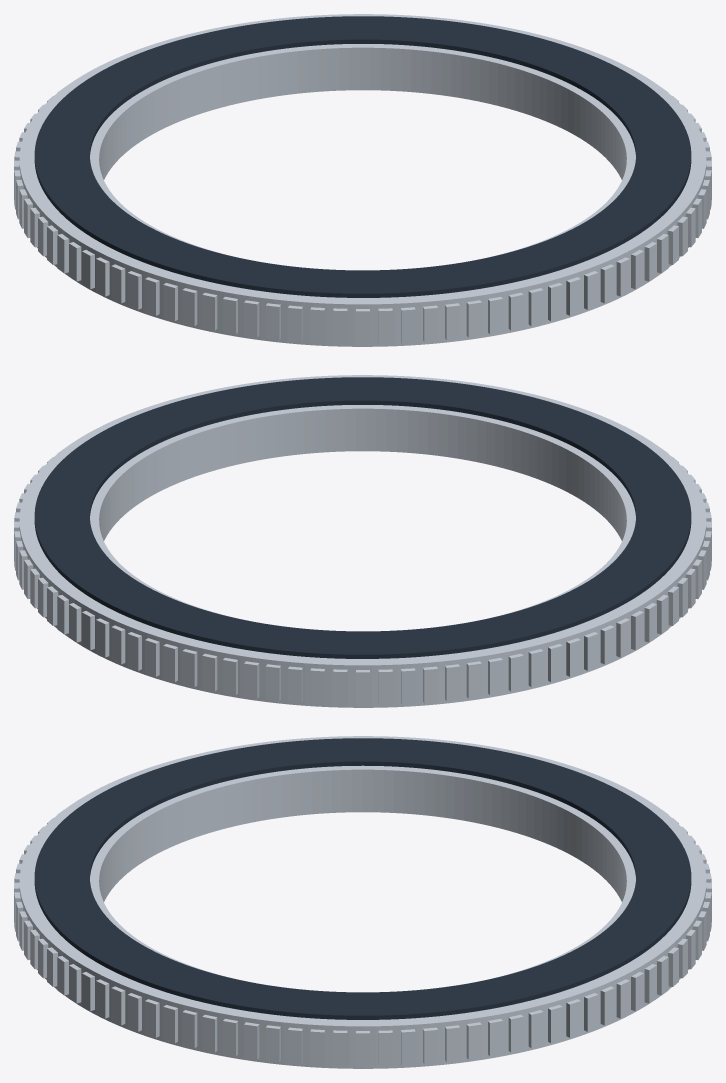
File: bezel_knurled_42mm_v1.glb
3 renders of one model, top to bottom at view 1: azimuth 30°, elevation 25°; view 2: azimuth 150°, elevation 25°; view 3: azimuth 270°, elevation 25°, orthographic.
Visible parts, largest first — view 1: DD_BEZEL_INSERT, DD_BEZEL_CARRIER_KNURLED, DD_BEZEL_KNURL_071, DD_BEZEL_KNURL_056, DD_BEZEL_KNURL_057, DD_BEZEL_KNURL_059, DD_BEZEL_KNURL_069, DD_BEZEL_KNURL_072, DD_BEZEL_KNURL_063, DD_BEZEL_KNURL_065, DD_BEZEL_KNURL_054, DD_BEZEL_KNURL_074 (+14 smaller); view 2: DD_BEZEL_INSERT, DD_BEZEL_CARRIER_KNURLED, DD_BEZEL_KNURL_025, DD_BEZEL_KNURL_024, DD_BEZEL_KNURL_027, DD_BEZEL_KNURL_037, DD_BEZEL_KNURL_039, DD_BEZEL_KNURL_040, DD_BEZEL_KNURL_031, DD_BEZEL_KNURL_033, DD_BEZEL_KNURL_022, DD_BEZEL_KNURL_042 (+14 smaller); view 3: DD_BEZEL_INSERT, DD_BEZEL_CARRIER_KNURLED, DD_BEZEL_KNURL_005, DD_BEZEL_KNURL_007, DD_BEZEL_KNURL_008, DD_BEZEL_KNURL_088, DD_BEZEL_KNURL_089, DD_BEZEL_KNURL_091, DD_BEZEL_KNURL_001, DD_BEZEL_KNURL_095, DD_BEZEL_KNURL_002, DD_BEZEL_KNURL_010 (+14 smaller).
Part boxes in pixels (x1=…): DD_BEZEL_INSERT: x1=34, y1=16, x2=691, y2=297; DD_BEZEL_CARRIER_KNURLED: x1=19, y1=14, x2=706, y2=346; DD_BEZEL_KNURL_071: x1=508, y1=292, x2=523, y2=330; DD_BEZEL_KNURL_056: x1=182, y1=288, x2=197, y2=326; DD_BEZEL_KNURL_057: x1=202, y1=292, x2=217, y2=330; DD_BEZEL_KNURL_059: x1=244, y1=300, x2=259, y2=337; DD_BEZEL_KNURL_069: x1=466, y1=300, x2=481, y2=337; DD_BEZEL_KNURL_072: x1=528, y1=288, x2=543, y2=326; DD_BEZEL_KNURL_063: x1=333, y1=308, x2=347, y2=344; DD_BEZEL_KNURL_065: x1=378, y1=308, x2=392, y2=344; DD_BEZEL_KNURL_054: x1=145, y1=277, x2=159, y2=315; DD_BEZEL_KNURL_074: x1=566, y1=277, x2=580, y2=315; DD_BEZEL_INSERT: x1=34, y1=377, x2=691, y2=658; DD_BEZEL_CARRIER_KNURLED: x1=19, y1=375, x2=706, y2=707; DD_BEZEL_KNURL_025: x1=202, y1=653, x2=217, y2=691; DD_BEZEL_KNURL_024: x1=182, y1=649, x2=197, y2=687; DD_BEZEL_KNURL_027: x1=244, y1=661, x2=259, y2=698; DD_BEZEL_KNURL_037: x1=466, y1=661, x2=481, y2=698; DD_BEZEL_KNURL_039: x1=508, y1=653, x2=523, y2=691; DD_BEZEL_KNURL_040: x1=528, y1=649, x2=543, y2=687; DD_BEZEL_KNURL_031: x1=333, y1=669, x2=347, y2=705; DD_BEZEL_KNURL_033: x1=378, y1=669, x2=392, y2=705; DD_BEZEL_KNURL_022: x1=145, y1=638, x2=159, y2=676; DD_BEZEL_KNURL_042: x1=566, y1=638, x2=580, y2=676; DD_BEZEL_INSERT: x1=34, y1=738, x2=691, y2=1019; DD_BEZEL_CARRIER_KNURLED: x1=19, y1=736, x2=706, y2=1068; DD_BEZEL_KNURL_005: x1=466, y1=1022, x2=481, y2=1059; DD_BEZEL_KNURL_007: x1=508, y1=1014, x2=523, y2=1052; DD_BEZEL_KNURL_008: x1=528, y1=1010, x2=543, y2=1048; DD_BEZEL_KNURL_088: x1=182, y1=1010, x2=197, y2=1048; DD_BEZEL_KNURL_089: x1=202, y1=1014, x2=217, y2=1052; DD_BEZEL_KNURL_091: x1=244, y1=1022, x2=259, y2=1059; DD_BEZEL_KNURL_001: x1=378, y1=1030, x2=392, y2=1066; DD_BEZEL_KNURL_095: x1=333, y1=1030, x2=347, y2=1066; DD_BEZEL_KNURL_002: x1=401, y1=1029, x2=415, y2=1065; DD_BEZEL_KNURL_010: x1=566, y1=999, x2=580, y2=1037.
Size of the model in its own units: 41.66 by 3.08 by 41.66.
